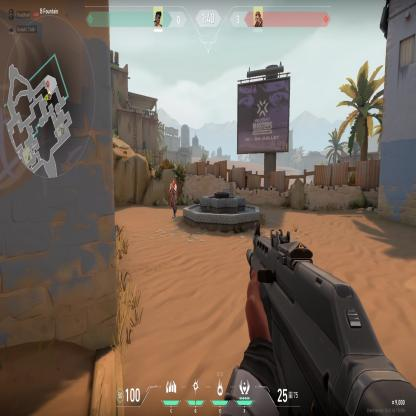enemy: (169, 178, 177, 220)
